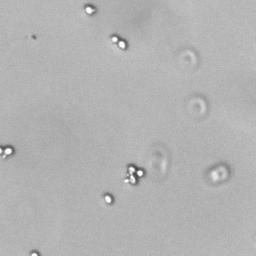budding: (108, 33, 132, 52), (83, 3, 99, 18), (2, 144, 16, 158)
cluster: (121, 162, 147, 188)
individual: (102, 192, 114, 205)
